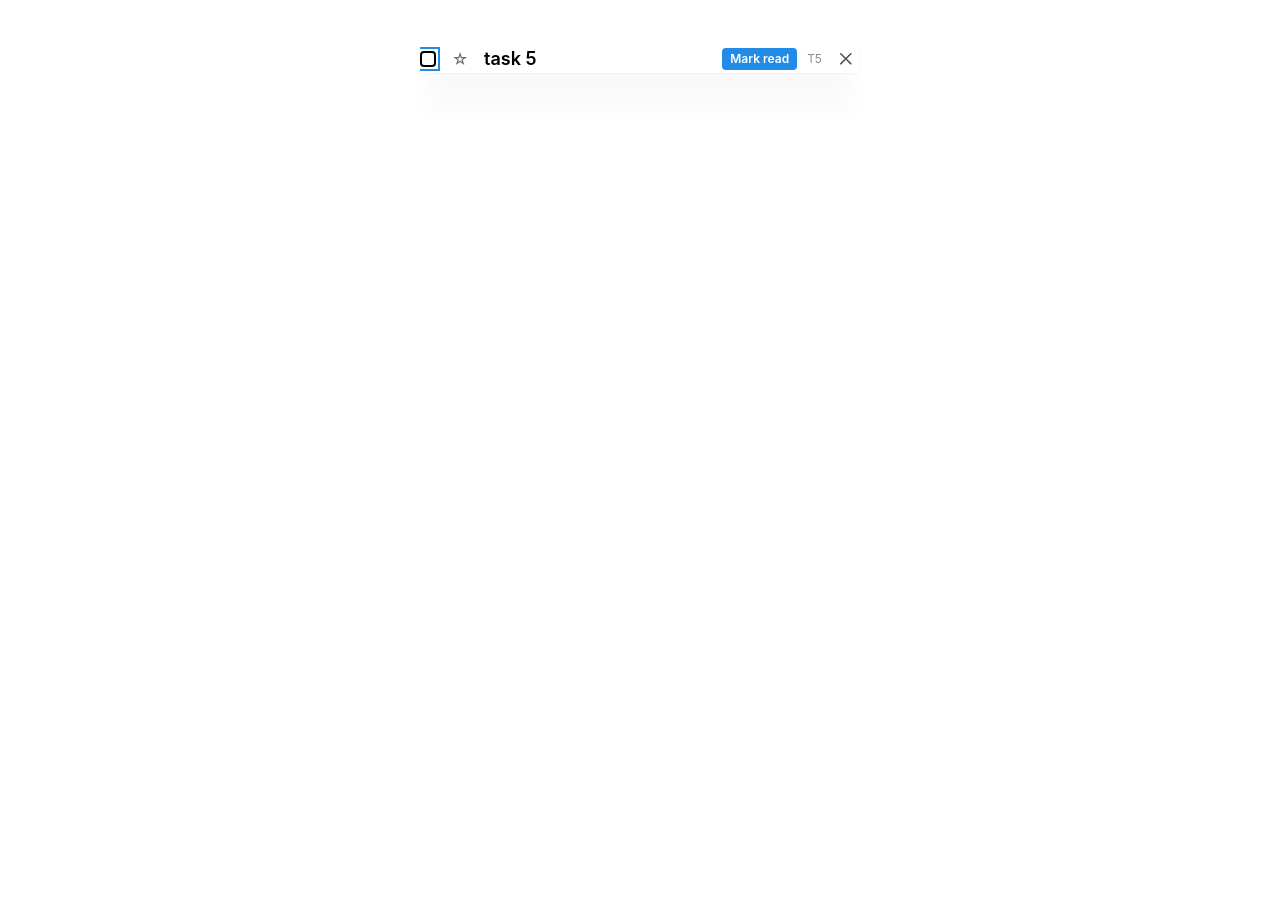
TaskModalHeader Mark read › reports a failed mark
The image size is (1280, 900).
Click the button "Mark read".
click(760, 59)  # box x1=722 y1=48 x2=797 y2=70
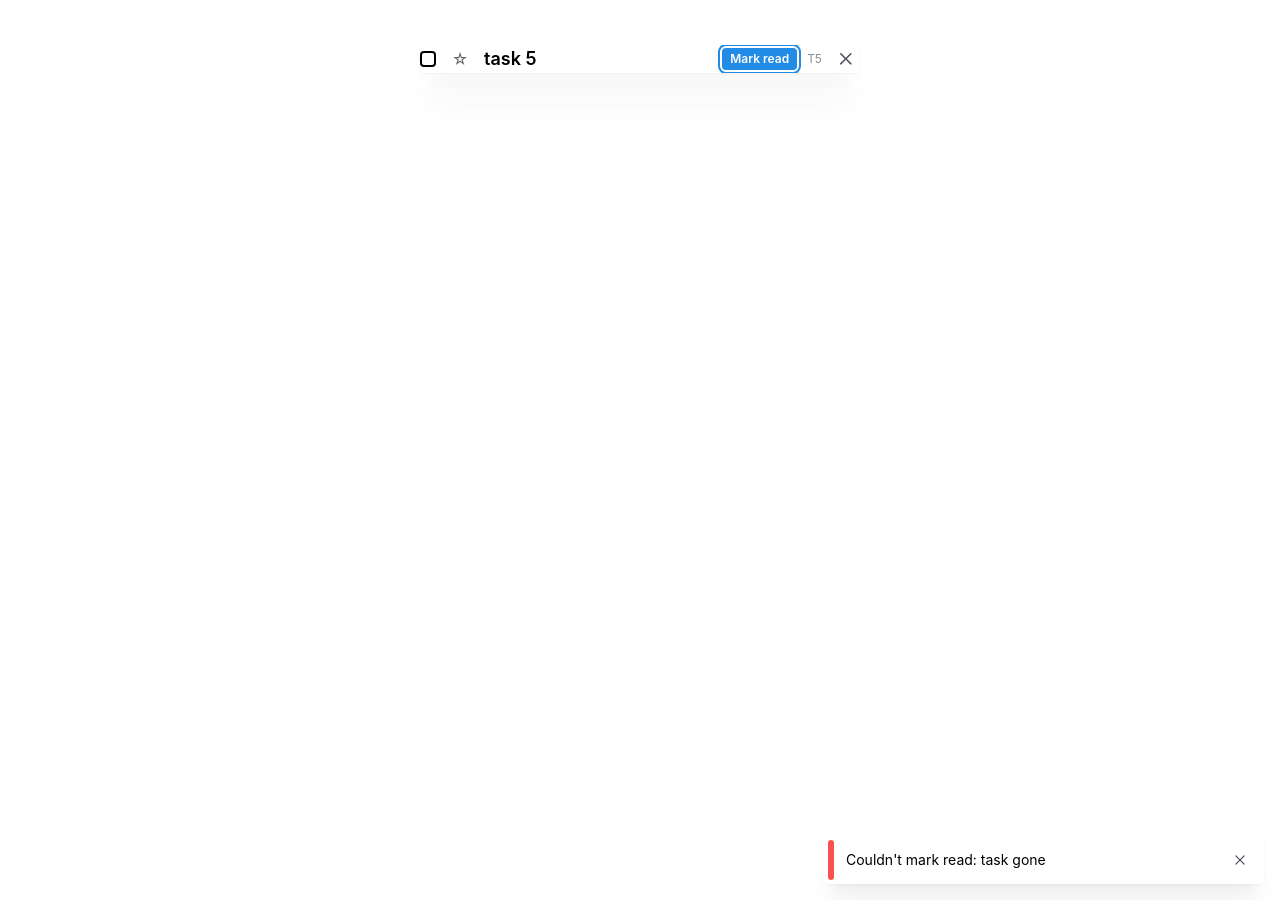
Check: the text "Couldn't mark read: task gone" is shown, box x1=846 y1=851 x2=1046 y2=868
